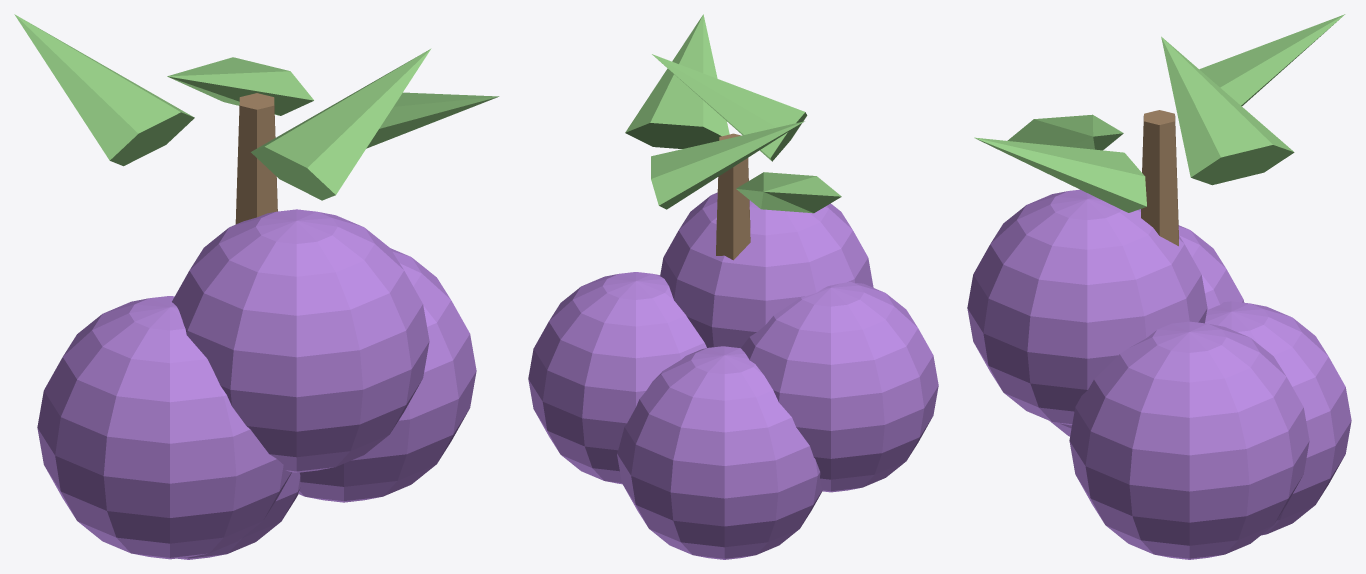
Rendered from 4190_jungleplum_cluster.glb.
The picture shows the model from 3 angles, left to right: view 1: azimuth 30°, elevation 25°; view 2: azimuth 150°, elevation 25°; view 3: azimuth 270°, elevation 25°; orthographic projection. The views are drawn at different scales.
Bounding box in the file's own units: 0.76 × 0.8568 × 0.64.
